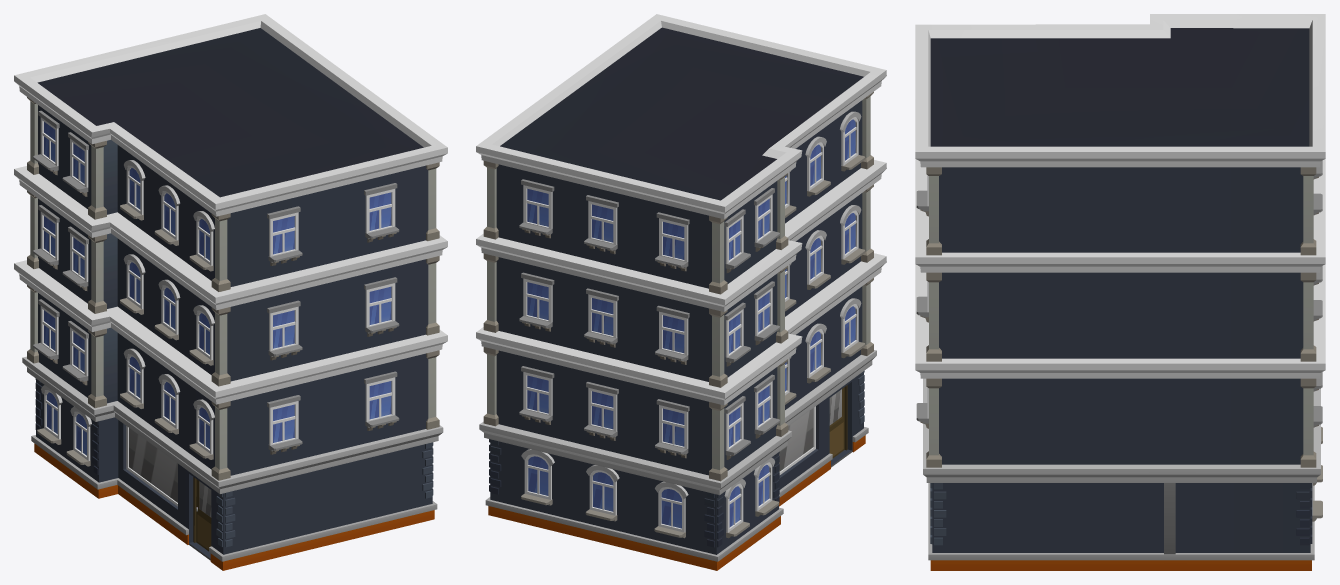
The model's file is Building_1_4_A.fbx.
3 views of the same model, side by side, from view 1: azimuth 30°, elevation 25°; view 2: azimuth 150°, elevation 25°; view 3: azimuth 270°, elevation 25° (orthographic). The views are drawn at different scales.
Parts seen in each view (by area): view 1: Building_1_4_A; view 2: Building_1_4_A; view 3: Building_1_4_A.
Boxes of the visible parts, x1=… form: Building_1_4_A: x1=14, y1=14, x2=447, y2=570; Building_1_4_A: x1=476, y1=14, x2=886, y2=570; Building_1_4_A: x1=915, y1=14, x2=1325, y2=570.
Size of the model in its own units: 841 by 1201 by 1057.
